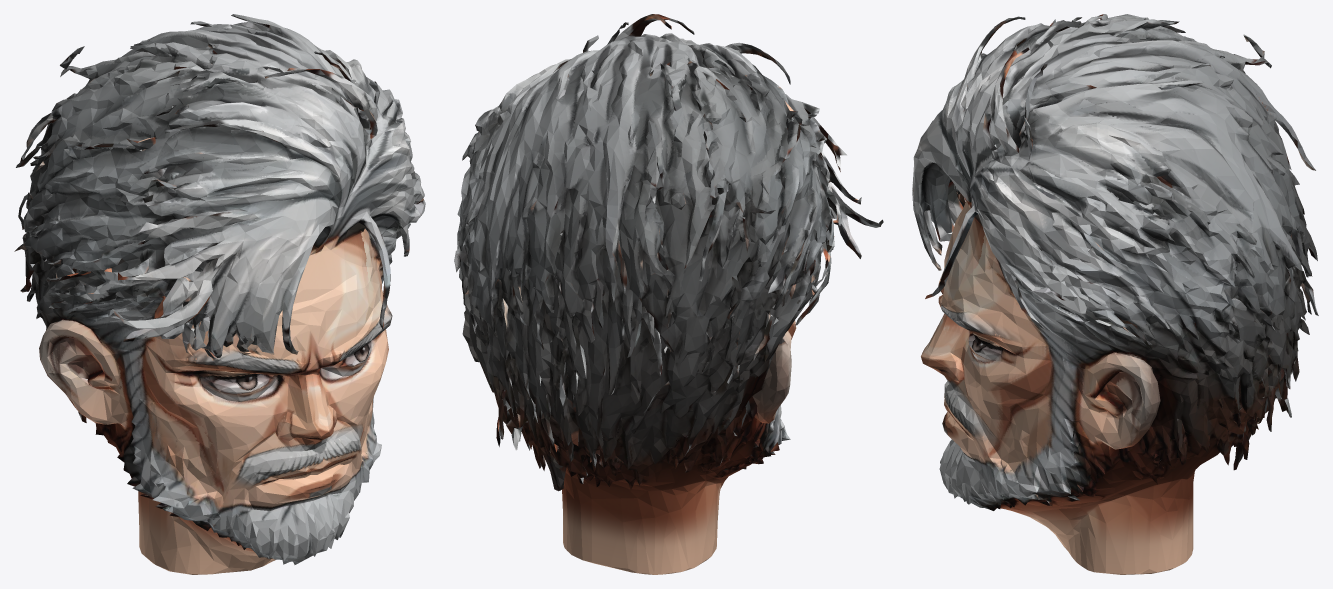
File: side_shipmaster_repaired_atlas.glb
3 views of the same model, side by side, from view 1: azimuth 30°, elevation 25°; view 2: azimuth 150°, elevation 25°; view 3: azimuth 270°, elevation 25° (orthographic). The views are drawn at different scales.
Parts seen in each view (by area): view 1: temp_mesh.ply; view 2: temp_mesh.ply; view 3: temp_mesh.ply.
Boxes of the visible parts, <box> form: temp_mesh.ply: <box>14,14,425,574</box>; temp_mesh.ply: <box>454,14,883,574</box>; temp_mesh.ply: <box>912,14,1318,574</box>.
Bounding box in the file's own units: 1.48 × 1.97 × 1.44.
1 material, 1 textured.
